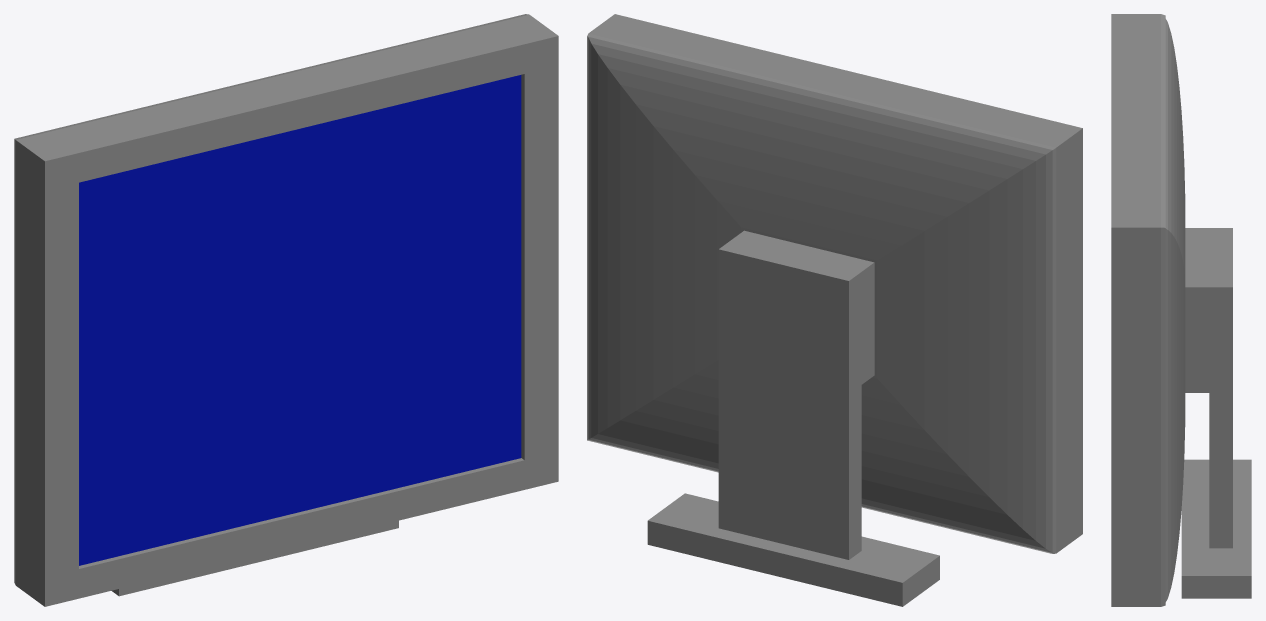
File: Bildschirm.fbx
3 views of the same model, side by side, from view 1: azimuth 30°, elevation 25°; view 2: azimuth 150°, elevation 25°; view 3: azimuth 270°, elevation 25° (orthographic). The views are drawn at different scales.
Parts seen in each view (by area): view 1: Bildschirm_LOD0; view 2: Bildschirm_LOD0; view 3: Bildschirm_LOD0.
Boxes of the visible parts, x1,y1,x2,y2 form: Bildschirm_LOD0: [14, 14, 558, 606]; Bildschirm_LOD0: [587, 14, 1082, 606]; Bildschirm_LOD0: [1111, 14, 1251, 606].
Size of what is drawn, in the model's own units: 0.3855 by 0.3538 by 0.1071.
